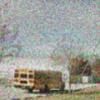buses: (13, 68, 64, 93)
